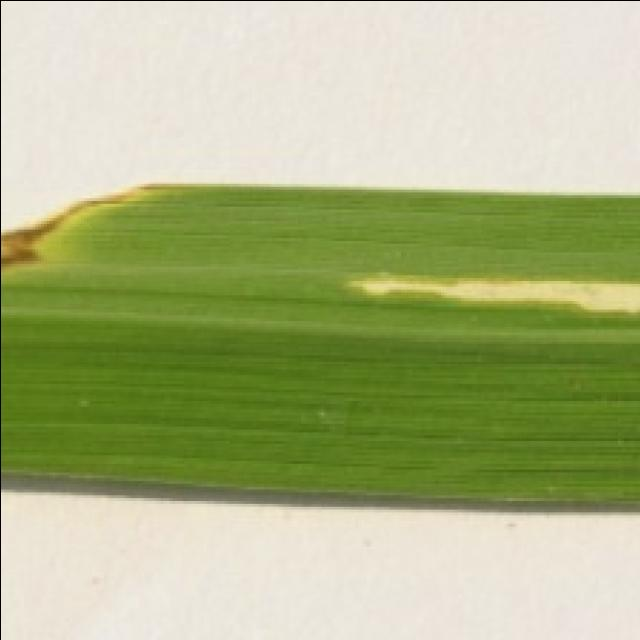Unhealthy: (0, 182, 174, 269), (341, 269, 640, 313)
